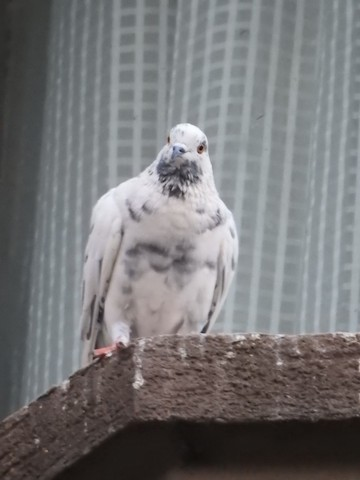pigeon: (78, 114, 244, 366)
